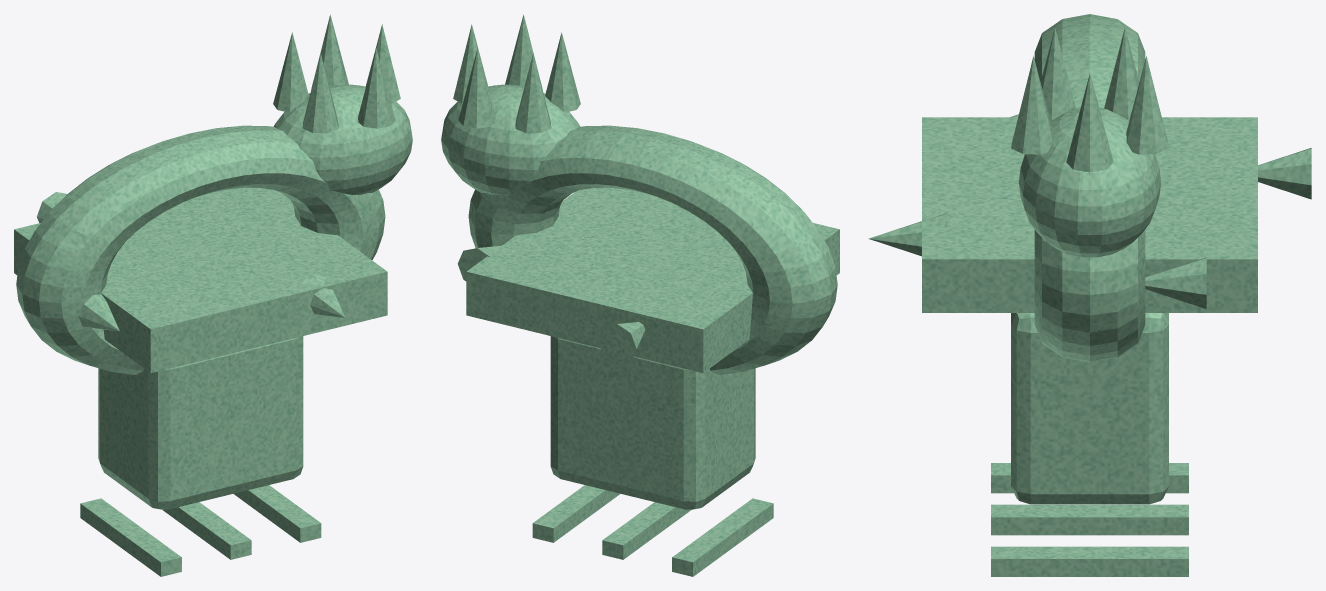
File: jade-imperial-seal.glb
3 views of the same model, side by side, from view 1: azimuth 30°, elevation 25°; view 2: azimuth 150°, elevation 25°; view 3: azimuth 270°, elevation 25° (orthographic). The views are drawn at different scales.
Parts seen in each view (by area): view 1: Cube.003; view 2: Cube.003; view 3: Cube.003.
Part boxes in pixels (bbox=[...]): Cube.003: bbox=[14, 14, 412, 576]; Cube.003: bbox=[441, 14, 839, 576]; Cube.003: bbox=[868, 14, 1311, 576].
Size of the model in its own units: 0.2753 by 0.315 by 0.2242.
1 material, 1 textured.
